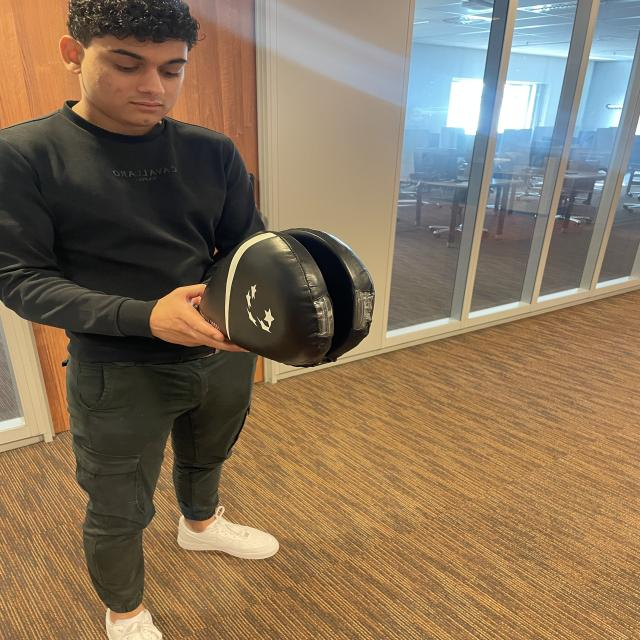paddle: (202, 225, 375, 367)
